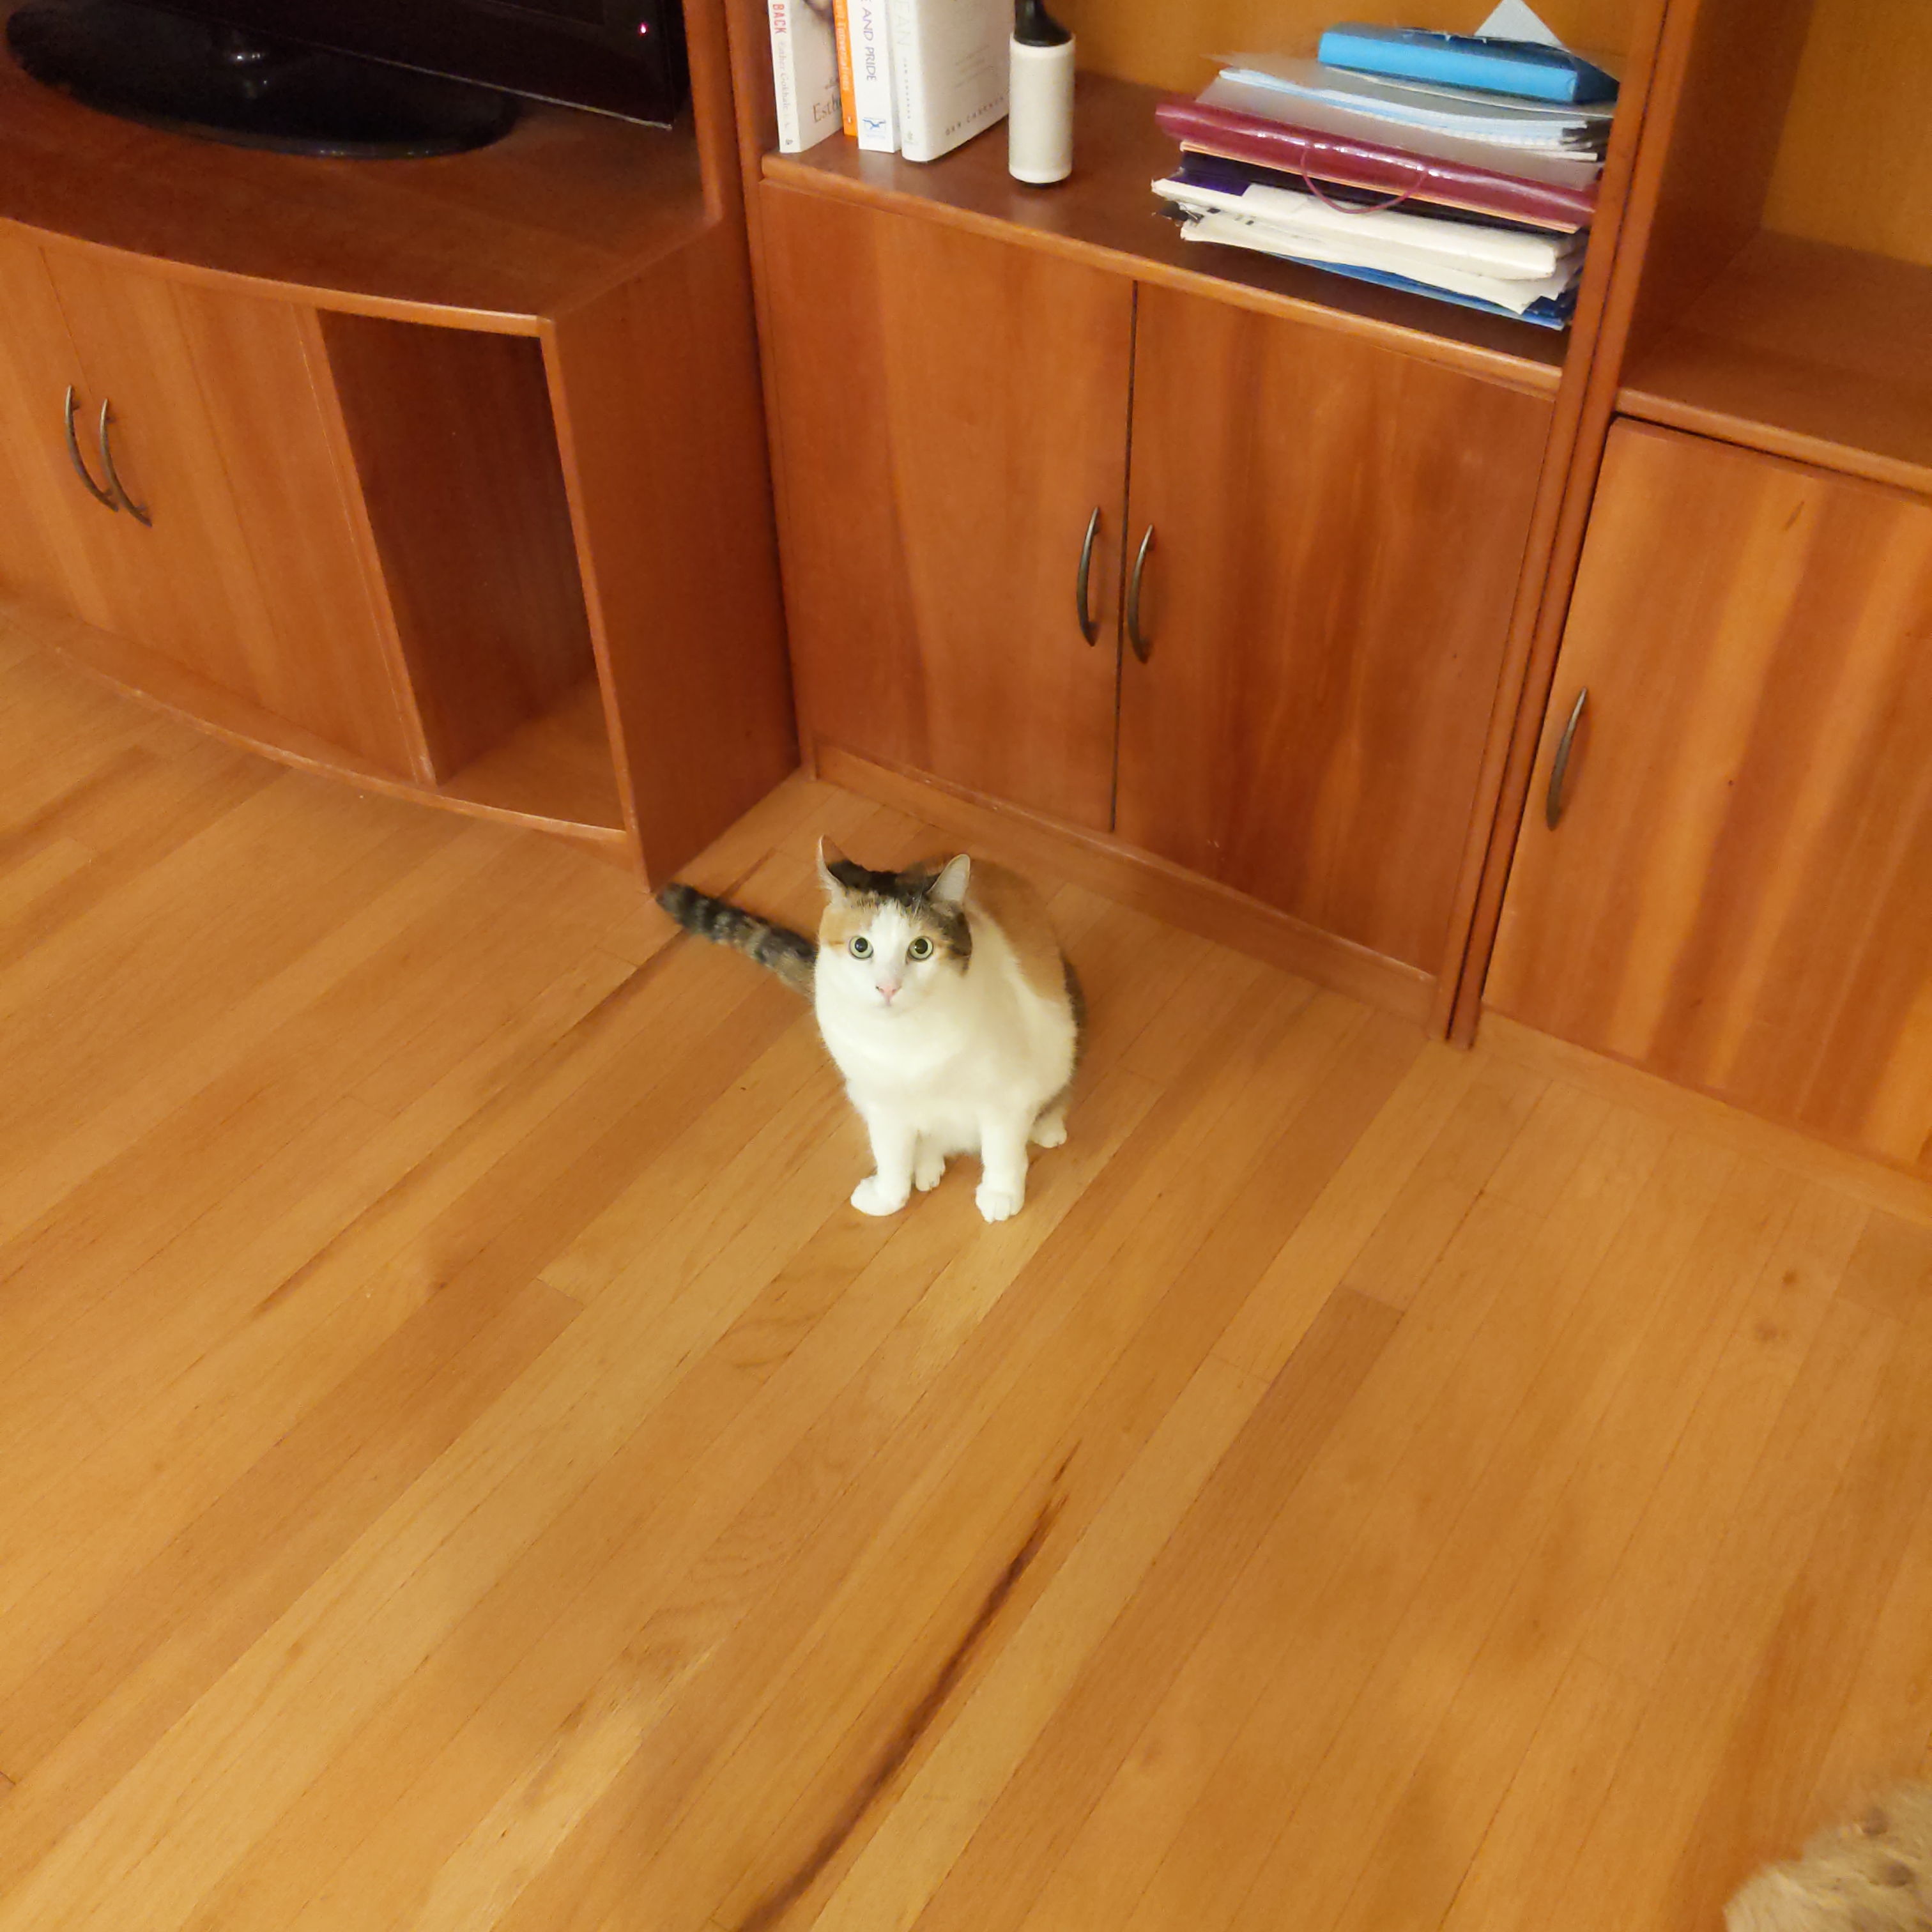Calico: (655, 837, 1086, 1224)
